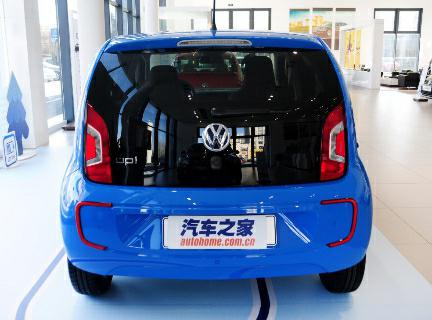大众-e-up!: (56, 26, 382, 304)
